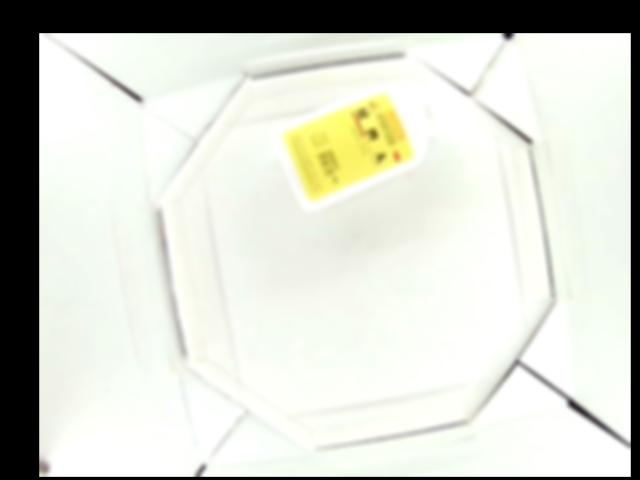Bottle: (271, 77, 459, 208)
